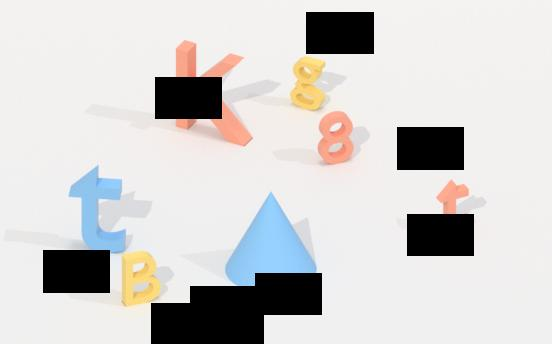8: (317, 108, 356, 170)
b: (117, 246, 165, 312)
g: (291, 51, 327, 113)
k: (172, 36, 257, 149)
non: (222, 188, 320, 297)
t: (67, 160, 129, 256), (435, 175, 475, 235)
